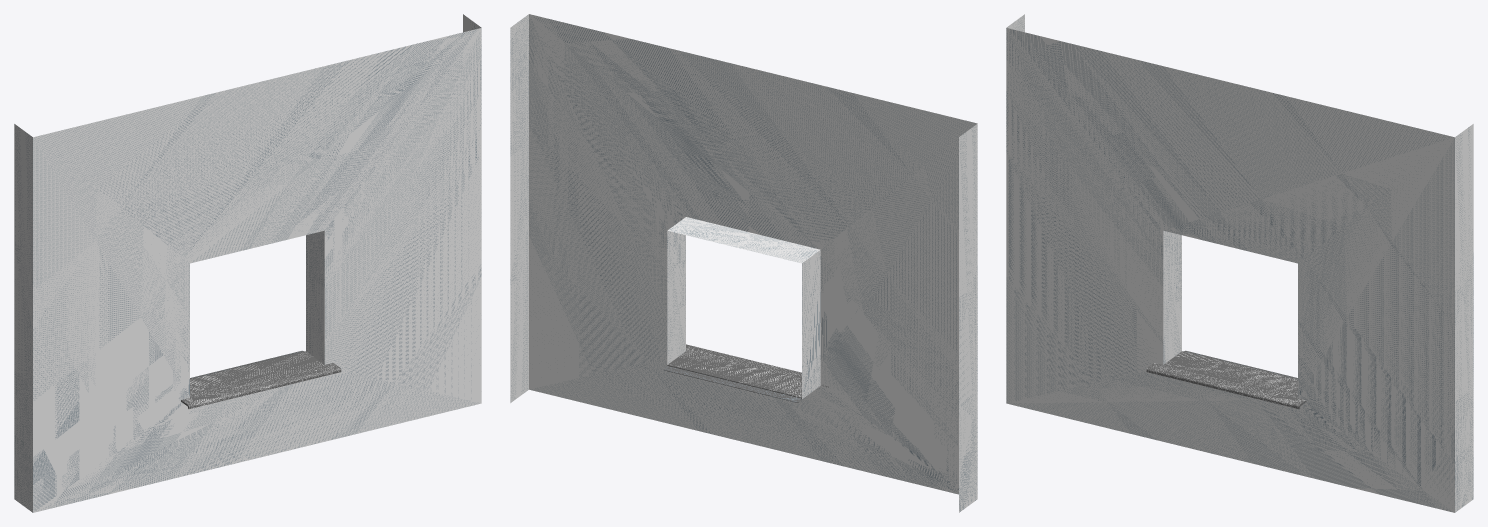
Rendered from WindowBlock_os_[500x400]_150x143x[080].dae.
3 views of the same model, side by side, from view 1: azimuth 30°, elevation 25°; view 2: azimuth 150°, elevation 25°; view 3: azimuth 330°, elevation 25° (orthographic).
Visible parts, largest first — view 1: group_1 (×2), group_2; view 2: group_1 (×2), group_2 (×2); view 3: group_1 (×2), group_2.
Boxes of the visible parts, x1=… form: group_1 (×2): x1=14, y1=14, x2=481, y2=512; group_2: x1=181, y1=351, x2=341, y2=408; group_1 (×2): x1=510, y1=14, x2=977, y2=512; group_2 (×2): x1=664, y1=344, x2=829, y2=402; group_1 (×2): x1=1006, y1=14, x2=1473, y2=512; group_2: x1=1146, y1=351, x2=1306, y2=408.
Bounding box in the file's own units: 197 × 23.03 × 157.
